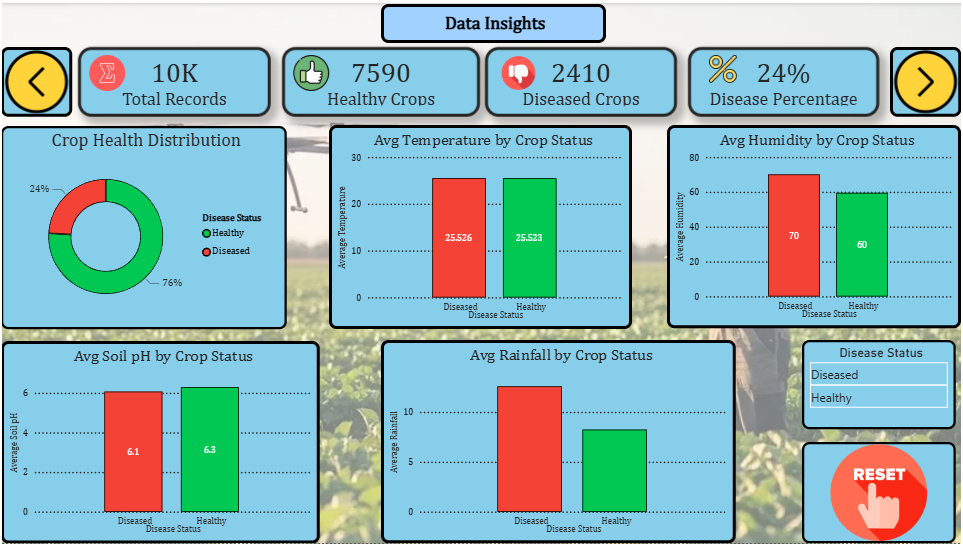

The dashboard page shown, as its layout file describes it:
{"tool":"powerbi","page":{"name":"main","canvas":[1280,720],"ordinal":1},"visuals":[{"type":"advanceCardE03760C5AB684758B56AA29F9E6C257B","fields":{"mainMeasure":["plant_disease_powerbi_export.Healthy Crops"]},"box":[374.2,58.7,264,93.3],"z":0},{"type":"advanceCardE03760C5AB684758B56AA29F9E6C257B","fields":{"mainMeasure":["plant_disease_powerbi_export.Total Records"]},"box":[102.7,58.7,257.3,93.3],"z":1000},{"type":"advanceCardE03760C5AB684758B56AA29F9E6C257B","fields":{"mainMeasure":["plant_disease_powerbi_export.Diseased Crops"]},"box":[645.3,58.7,256,93.3],"z":2000},{"type":"advanceCardE03760C5AB684758B56AA29F9E6C257B","fields":{"mainMeasure":["plant_disease_powerbi_export.Disease Percentage"]},"box":[916,58.7,254.7,93.3],"z":3000},{"type":"donutChart","title":"Crop Health Distribution","fields":{"Y":["CountNonNull(plant_disease_powerbi_export.disease_present)"],"Category":["plant_disease_powerbi_export.Disease Status"]},"box":[0,164,381.3,270.7],"z":4000},{"type":"clusteredColumnChart","title":"Avg Temperature by Crop Status","fields":{"Category":["plant_disease_powerbi_export.Disease Status"],"Y":["plant_disease_powerbi_export.Average Temperature"]},"box":[437.3,162.7,404,272],"z":5000},{"type":"clusteredColumnChart","title":"Avg Humidity by Crop Status","fields":{"Category":["plant_disease_powerbi_export.Disease Status"],"Y":["plant_disease_powerbi_export.Average Humidity"]},"box":[888,162.7,392,270.7],"z":6000},{"type":"image","box":[0,58.7,94.7,93.3],"z":7000},{"type":"image","box":[1068,585.3,205.3,134.7],"z":8000},{"type":"clusteredColumnChart","title":"Avg Soil pH by Crop Status","fields":{"Category":["plant_disease_powerbi_export.Disease Status"],"Y":["plant_disease_powerbi_export.Average Soil pH"]},"box":[0,450.1,425.3,269.8],"z":9000},{"type":"clusteredColumnChart","title":"Avg Rainfall by Crop Status","fields":{"Category":["plant_disease_powerbi_export.Disease Status"],"Y":["plant_disease_powerbi_export.Average Rainfall"]},"box":[506.5,448.7,473.5,271.1],"z":10000},{"type":"listSlicer","fields":{"Values":["plant_disease_powerbi_export.Disease Status"]},"box":[1068,449.3,205.3,118.7],"z":11000},{"type":"image","box":[1185.3,58.7,94.7,93.3],"z":13000},{"type":"textbox","box":[506.7,1.3,300,52],"z":14000},{"type":"image","box":[927.7,68.8,68.8,37.2],"z":14001},{"type":"image","box":[351,68.8,126.6,48.2],"z":14002},{"type":"image","box":[656.5,68.8,67.4,48.2],"z":14003},{"type":"image","box":[103.2,68.8,78.5,48.2],"z":14004}]}

Visuals, with their boxes in screenshot pixels (x1, y1, x2, y2), scaled from the page's 1280x720 canvas onto the 963x546 screenshot:
advanceCardE03760C5AB684758B56AA29F9E6C257B - plant_disease_powerbi_export.Healthy Crops: crop(282, 45, 480, 115)
advanceCardE03760C5AB684758B56AA29F9E6C257B - plant_disease_powerbi_export.Total Records: crop(77, 45, 271, 115)
advanceCardE03760C5AB684758B56AA29F9E6C257B - plant_disease_powerbi_export.Diseased Crops: crop(485, 45, 678, 115)
advanceCardE03760C5AB684758B56AA29F9E6C257B - plant_disease_powerbi_export.Disease Percentage: crop(689, 45, 881, 115)
"Crop Health Distribution" donutChart: crop(0, 124, 287, 330)
"Avg Temperature by Crop Status" clusteredColumnChart: crop(329, 123, 633, 330)
"Avg Humidity by Crop Status" clusteredColumnChart: crop(668, 123, 962, 329)
image: crop(0, 45, 71, 115)
image: crop(804, 444, 958, 545)
"Avg Soil pH by Crop Status" clusteredColumnChart: crop(0, 341, 320, 545)
"Avg Rainfall by Crop Status" clusteredColumnChart: crop(381, 340, 737, 545)
listSlicer - plant_disease_powerbi_export.Disease Status: crop(804, 341, 958, 431)
image: crop(892, 45, 962, 115)
textbox: crop(381, 1, 607, 40)
image: crop(698, 52, 750, 80)
image: crop(264, 52, 359, 89)
image: crop(494, 52, 545, 89)
image: crop(78, 52, 137, 89)
